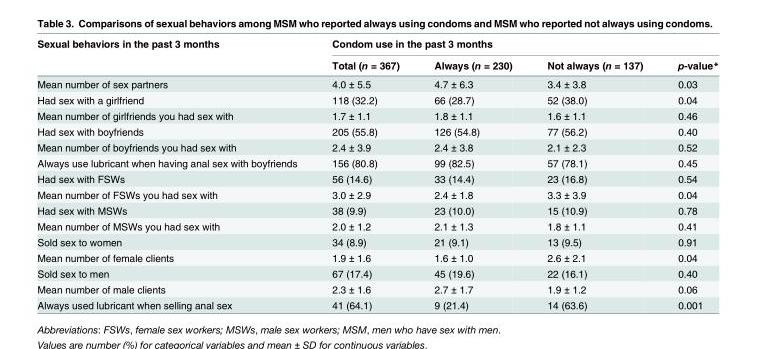table: (36, 37, 718, 310)
table column: (36, 37, 313, 310), (529, 37, 659, 310), (416, 37, 529, 310), (313, 37, 416, 310), (659, 37, 718, 310)
table column header: (36, 37, 718, 74)
table row: (36, 53, 718, 74), (36, 74, 718, 91), (36, 37, 718, 53), (36, 91, 718, 107), (36, 107, 718, 123), (36, 123, 718, 139), (36, 154, 718, 170), (36, 170, 718, 186), (36, 186, 718, 202), (36, 217, 718, 233), (36, 233, 718, 249), (36, 249, 718, 265), (36, 265, 718, 281), (36, 139, 718, 154), (36, 202, 718, 217), (36, 281, 718, 296), (36, 296, 718, 310)
table spanning cell: (36, 37, 313, 74), (313, 37, 718, 53)
